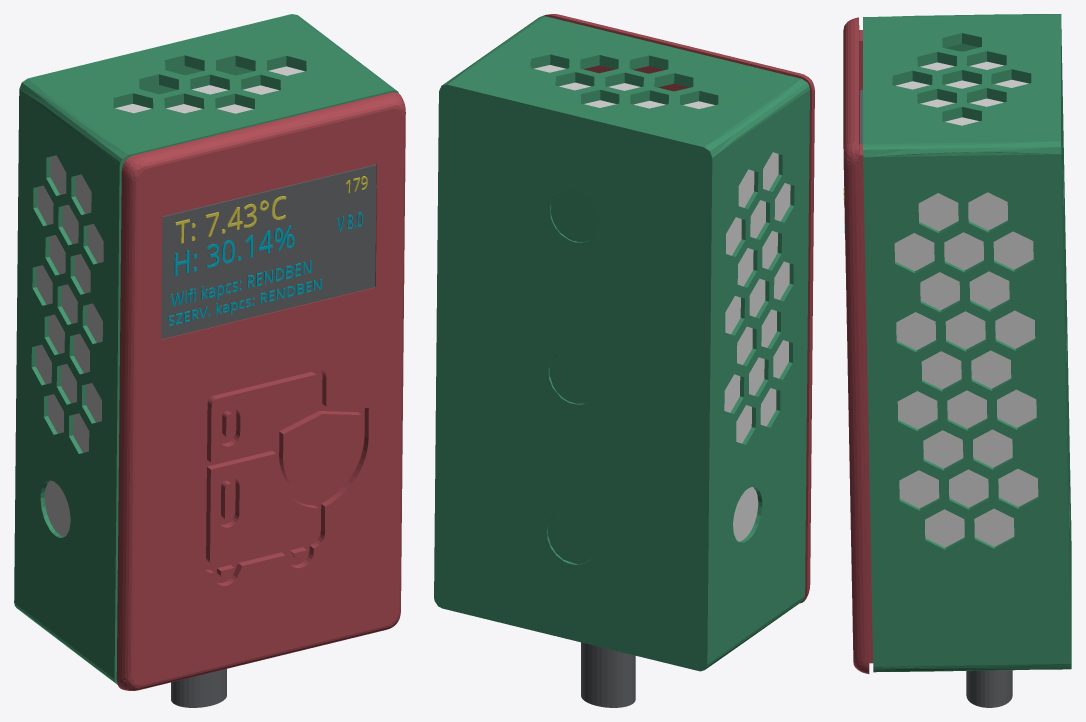
File: zold_piros.glb
The picture shows the model from 3 angles, left to right: view 1: azimuth 30°, elevation 25°; view 2: azimuth 150°, elevation 25°; view 3: azimuth 270°, elevation 25°; orthographic projection. The views are drawn at different scales.
Visible parts, largest first — view 1: Mesh_Mesh_head_geo.001_lambert2SG.001; view 2: Mesh_Mesh_head_geo.001_lambert2SG.001; view 3: Mesh_Mesh_head_geo.001_lambert2SG.001.
Part boxes in pixels (x1,y1,x2,y2): Mesh_Mesh_head_geo.001_lambert2SG.001: [14, 14, 405, 707]; Mesh_Mesh_head_geo.001_lambert2SG.001: [434, 14, 814, 707]; Mesh_Mesh_head_geo.001_lambert2SG.001: [843, 14, 1071, 707].
Size of the model in its own units: 33 by 70.15 by 23.52.
